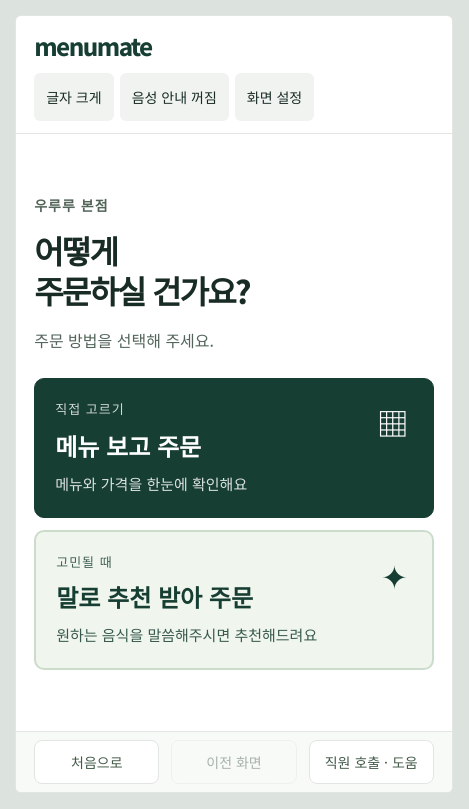
React prototype › blocked microphone explains how to allow it
Click the button "고민될 때 말로 추천 받아 주문 원하는 음식을 말씀해주시면 추천해드려요 ✦": (234, 600) [34,530,434,670]
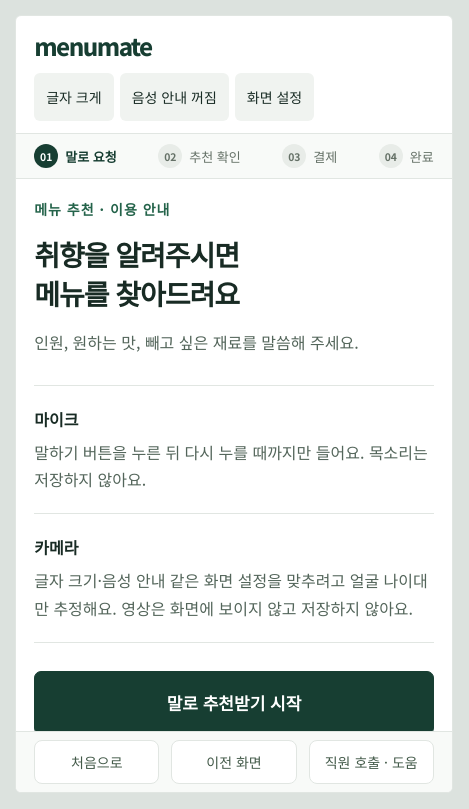
Click the button "말로 추천받기 시작": (234, 703) [34,671,434,735]
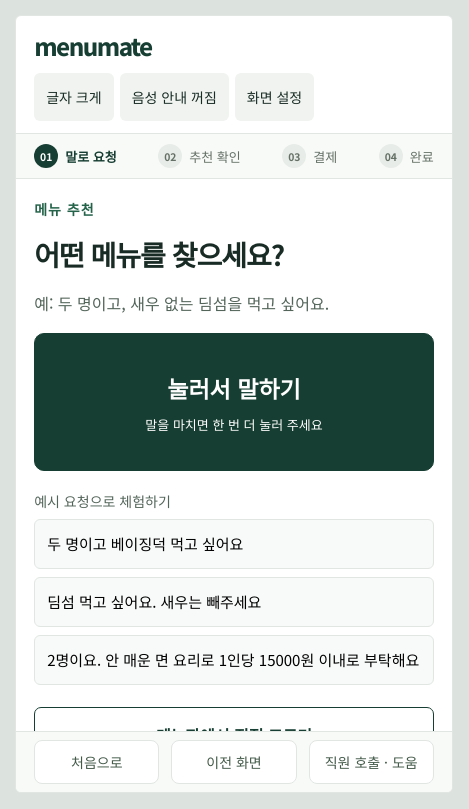
Click the button "눌러서 말하기 말을 마치면 한 번 더 눌러 주세요": (234, 402) [34,333,434,471]
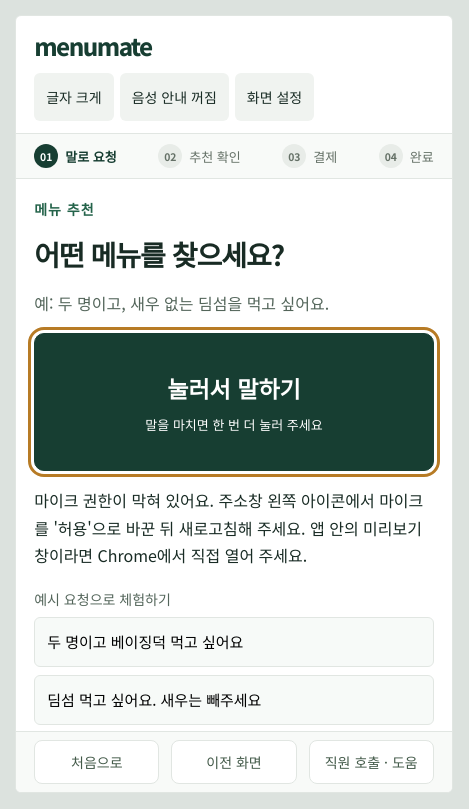
Now the message shows "주소창 왼쪽 아이콘에서 마이크를", box [34,488,423,567]
